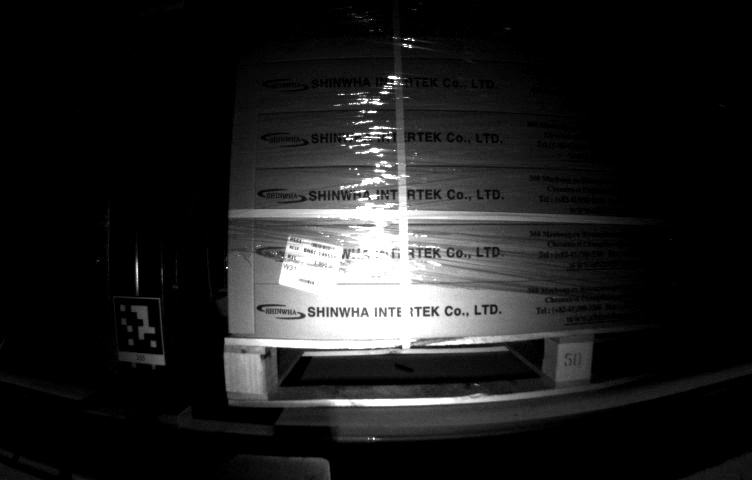True Barcode: (276, 234, 343, 297)
